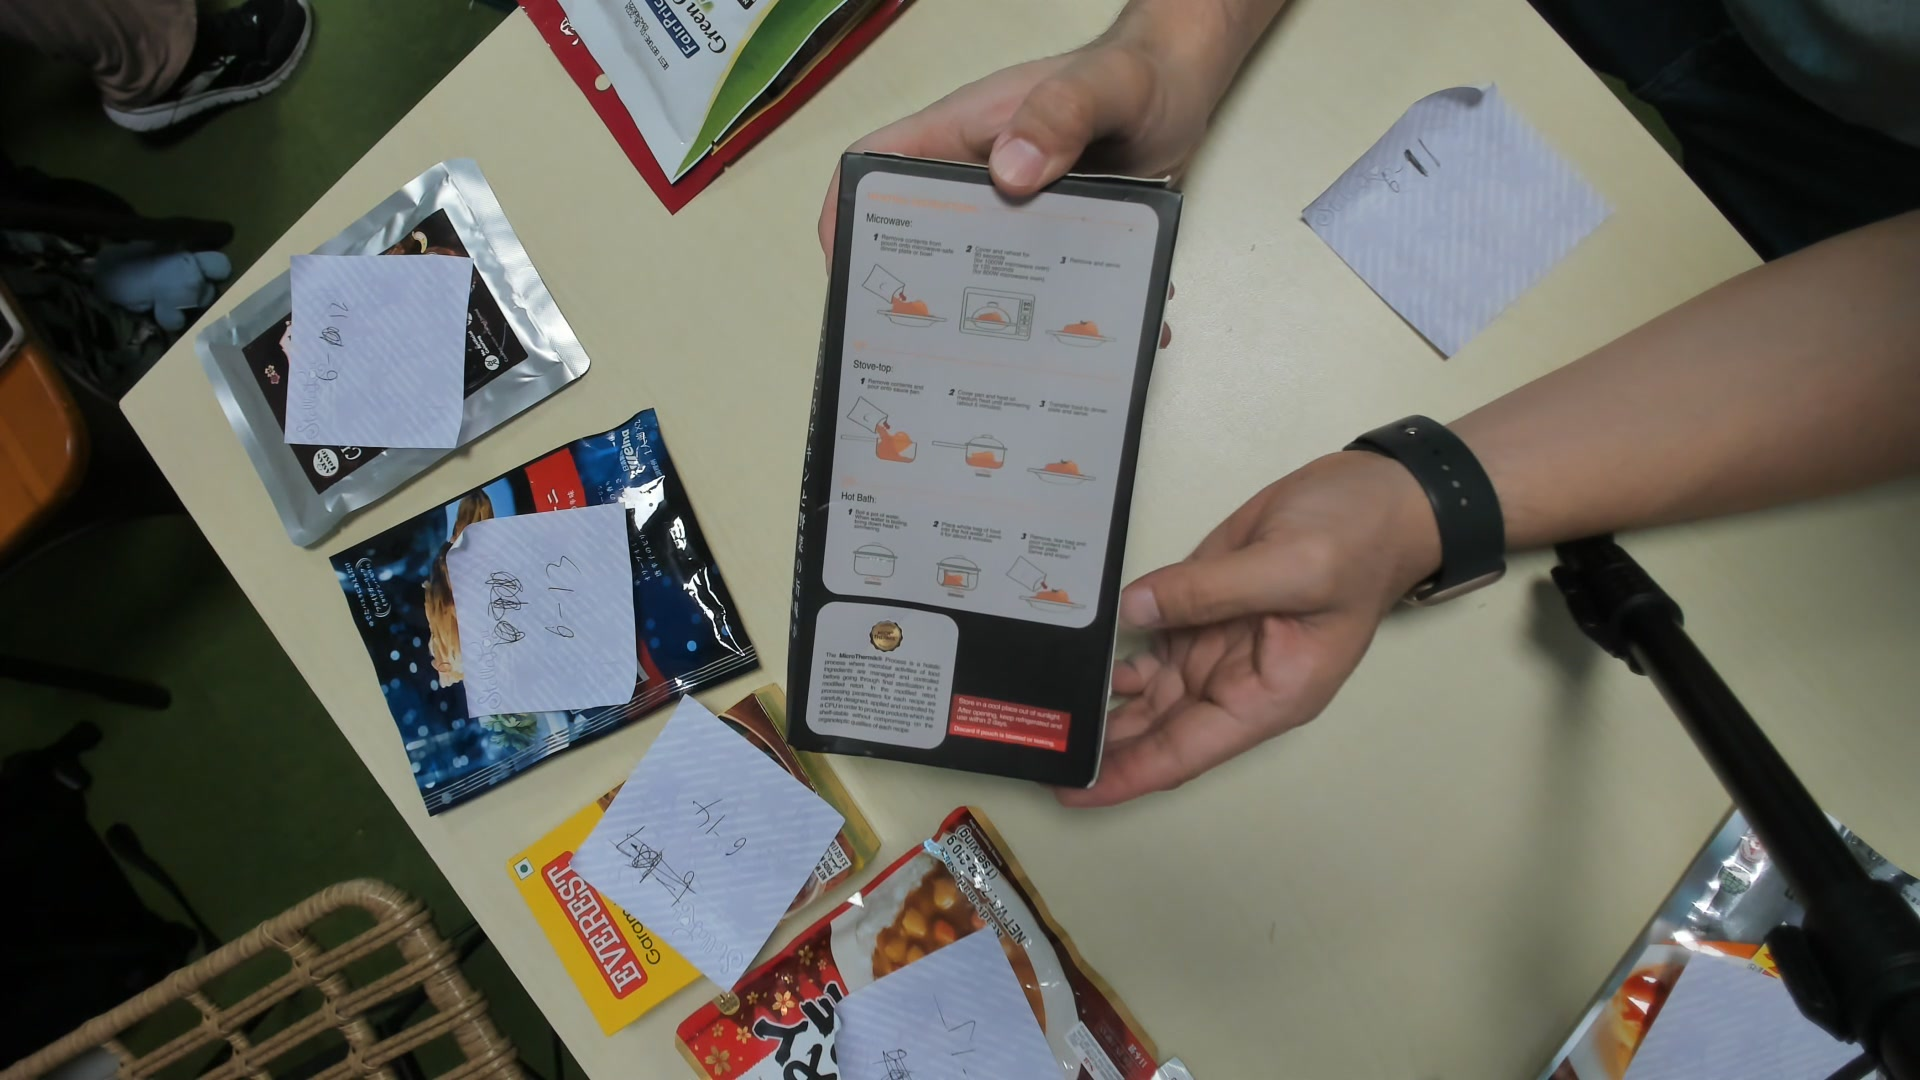CurryPastePowderSauce_200-299g_Halal_NonHealthy: (791, 145, 1184, 785)
